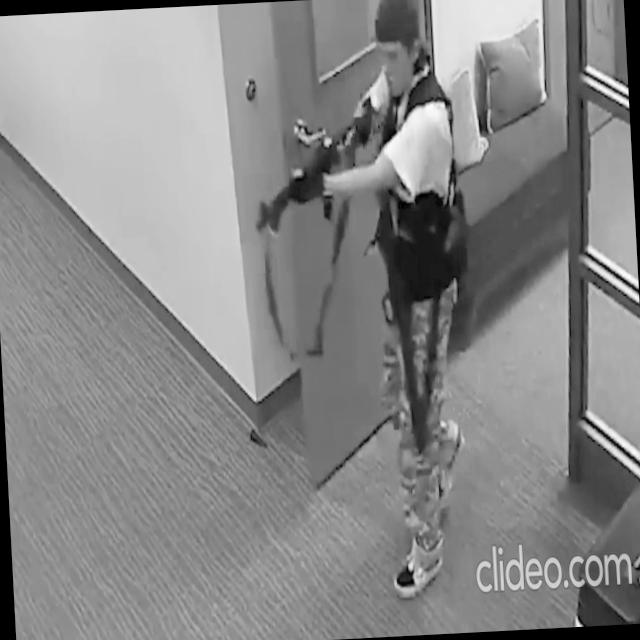gun: (372, 148, 463, 458), (248, 96, 382, 236)
person with a gun: (243, 0, 473, 612)
